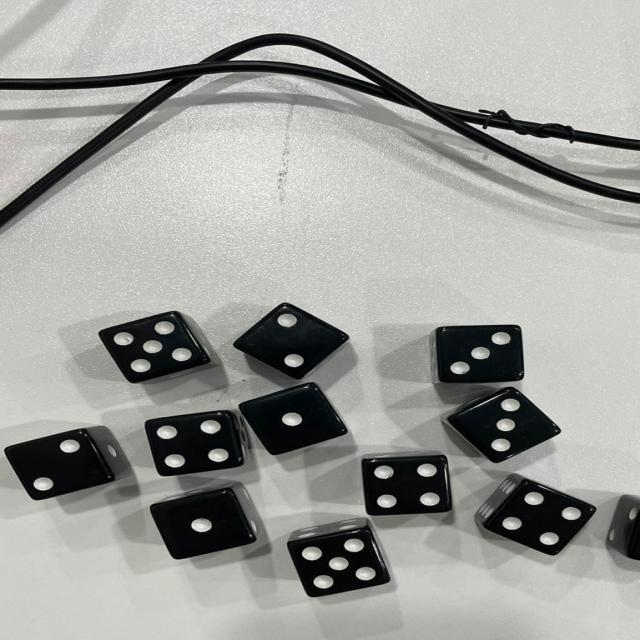DICE1: (149, 492, 256, 555), (233, 386, 325, 434)
DICE2: (230, 298, 349, 379), (5, 438, 122, 493)
DICE3: (416, 314, 554, 380), (466, 379, 572, 464)
DICE4: (483, 476, 605, 558), (136, 413, 260, 478), (352, 453, 463, 518)
DICE5: (91, 306, 214, 378), (292, 531, 398, 602)
